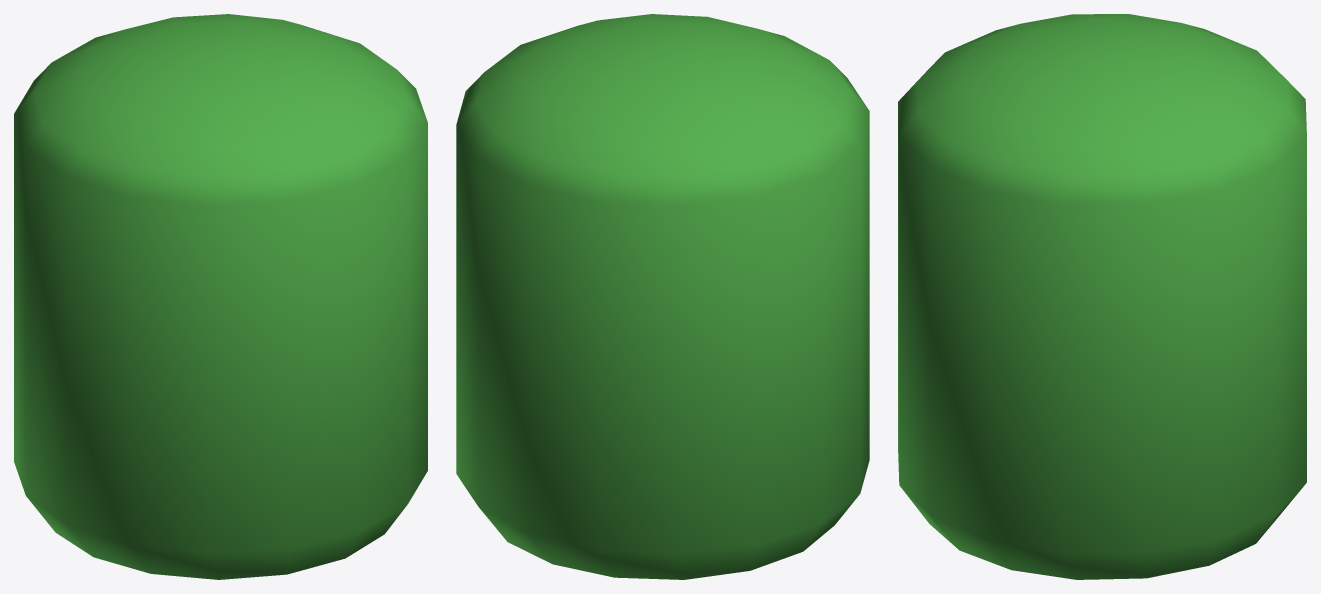
File: bush_s03.FBX
The picture shows the model from 3 angles, left to right: view 1: azimuth 30°, elevation 25°; view 2: azimuth 150°, elevation 25°; view 3: azimuth 270°, elevation 25°; orthographic projection.
Visible parts, largest first — view 1: bush_s03; view 2: bush_s03; view 3: bush_s03.
Boxes of the visible parts, bbox=[...] form: bush_s03: bbox=[14, 14, 427, 579]; bush_s03: bbox=[456, 14, 869, 579]; bush_s03: bbox=[898, 14, 1306, 579].
Size of the model in its own units: 82.81 by 82.81 by 107.
Materials: 1 (1 with a texture image).
